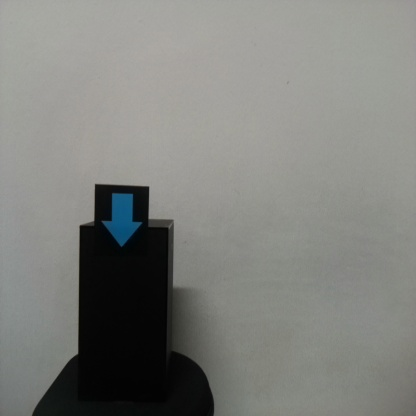id_2: (95, 185, 149, 271)
